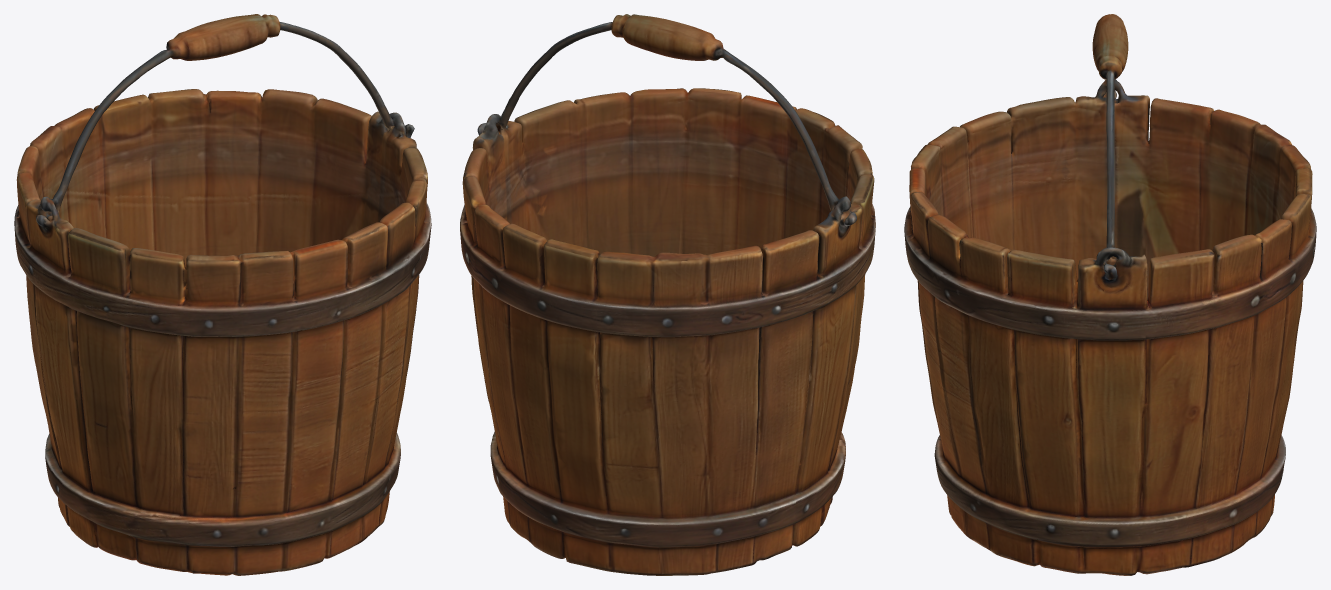
Rendered from a_stylized_cartoonis_0423155747_refine.fbx.
3 views of the same model, side by side, from view 1: azimuth 30°, elevation 25°; view 2: azimuth 150°, elevation 25°; view 3: azimuth 270°, elevation 25° (orthographic).
Visible parts, largest first — view 1: file1; view 2: file1; view 3: file1.
Boxes of the visible parts, box(x1,y1,x2,y2) form: file1: box(14, 14, 431, 575); file1: box(460, 14, 875, 575); file1: box(904, 14, 1316, 575).
Size of the model in its own units: 85 by 105 by 81.96.
Materials: 1 (1 with a texture image).
